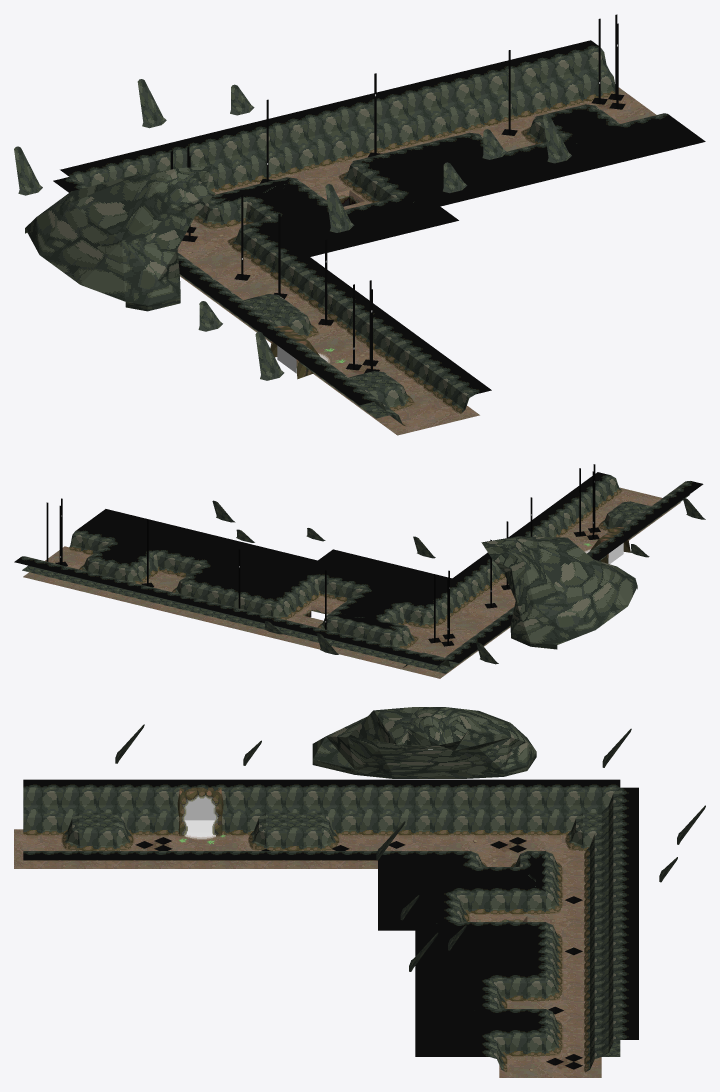
3 renders of one model, top to bottom at view 1: azimuth 30°, elevation 25°; view 2: azimuth 150°, elevation 25°; view 3: azimuth 270°, elevation 25°, orthographic. The views are drawn at different scales.
Visible parts, largest first — view 1: polygon6, polygon5, polygon13, polygon8, polygon4, polygon0, polygon7, polygon1; view 2: polygon6, polygon13, polygon8, polygon5, polygon4, polygon0, polygon7, polygon1, polygon12; view 3: polygon6, polygon5, polygon8, polygon4, polygon13, polygon7, polygon0, polygon12, polygon1, polygon11.
Boxes of the visible parts, bbox=[...] form: polygon6: bbox=[53, 40, 705, 405]; polygon5: bbox=[79, 52, 615, 424]; polygon13: bbox=[25, 166, 215, 311]; polygon8: bbox=[177, 87, 656, 435]; polygon4: bbox=[69, 47, 666, 415]; polygon0: bbox=[14, 79, 571, 418]; polygon7: bbox=[193, 89, 615, 426]; polygon1: bbox=[170, 14, 625, 373]; polygon6: bbox=[14, 472, 703, 665]; polygon13: bbox=[481, 536, 637, 649]; polygon8: bbox=[23, 487, 680, 678]; polygon5: bbox=[70, 478, 629, 669]; polygon4: bbox=[22, 475, 689, 659]; polygon0: bbox=[22, 494, 705, 673]; polygon7: bbox=[68, 488, 622, 667]; polygon1: bbox=[46, 464, 600, 646]; polygon12: bbox=[590, 527, 630, 563]; polygon6: bbox=[23, 779, 638, 1056]; polygon5: bbox=[23, 792, 613, 1069]; polygon8: bbox=[14, 829, 601, 1077]; polygon4: bbox=[23, 787, 620, 1058]; polygon13: bbox=[312, 707, 536, 778]; polygon7: bbox=[23, 817, 589, 1072]; polygon0: bbox=[79, 724, 705, 1056]; polygon12: bbox=[177, 787, 223, 836]; polygon1: bbox=[135, 837, 582, 1069]; polygon11: bbox=[184, 796, 215, 839].
Bounding box in the file's own units: 9.76 × 1.87 × 9.27.
15 materials, 15 textured.
